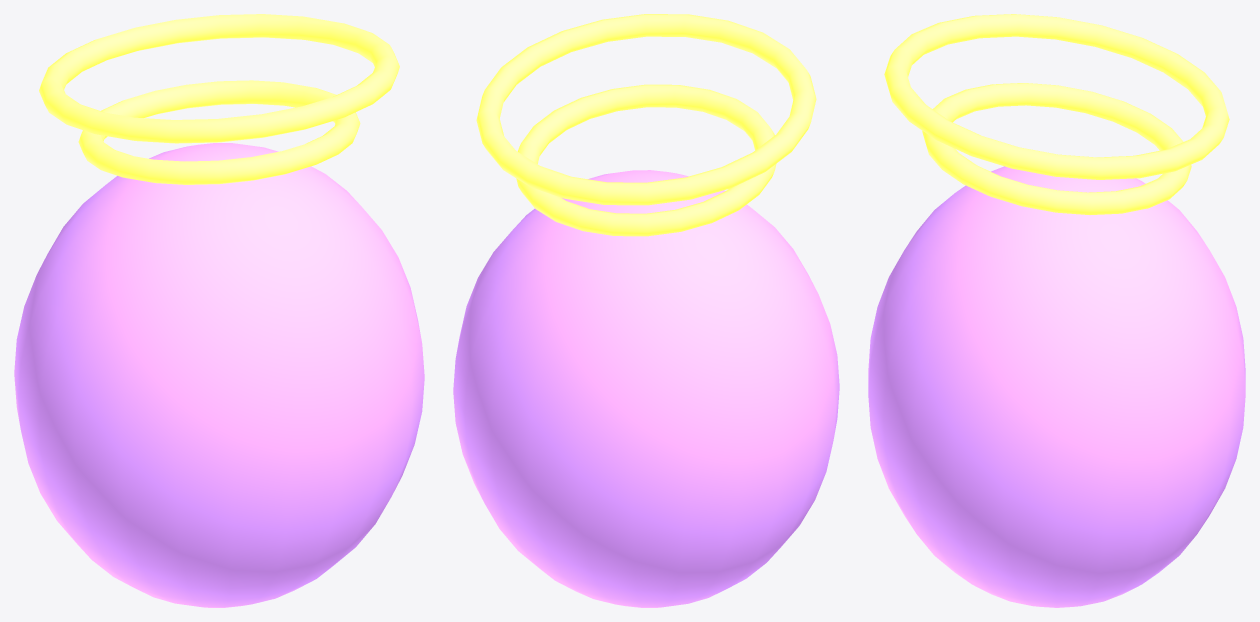
File: boo_stage2.glb
3 views of the same model, side by side, from view 1: azimuth 30°, elevation 25°; view 2: azimuth 150°, elevation 25°; view 3: azimuth 270°, elevation 25° (orthographic). The views are drawn at different scales.
Parts seen in each view (by area): view 1: Body; view 2: Body; view 3: Body.
Part boxes in pixels (x1,y1,x2,y2): Body: (14, 14, 424, 607); Body: (453, 14, 839, 607); Body: (868, 14, 1245, 607).
Size of the model in its own units: 0.9912 by 1.44 by 0.9321.
